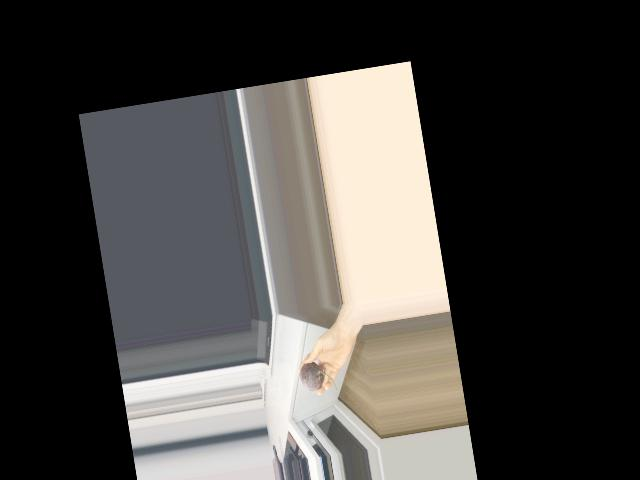beet: (298, 359, 337, 396)
